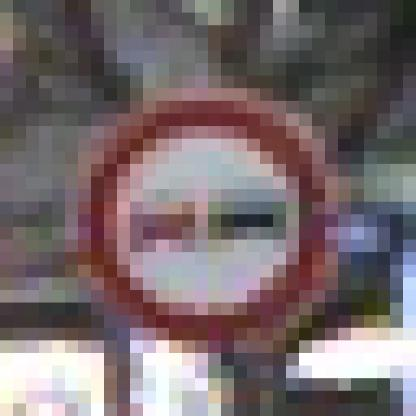No Overtaking: (66, 64, 352, 354)
